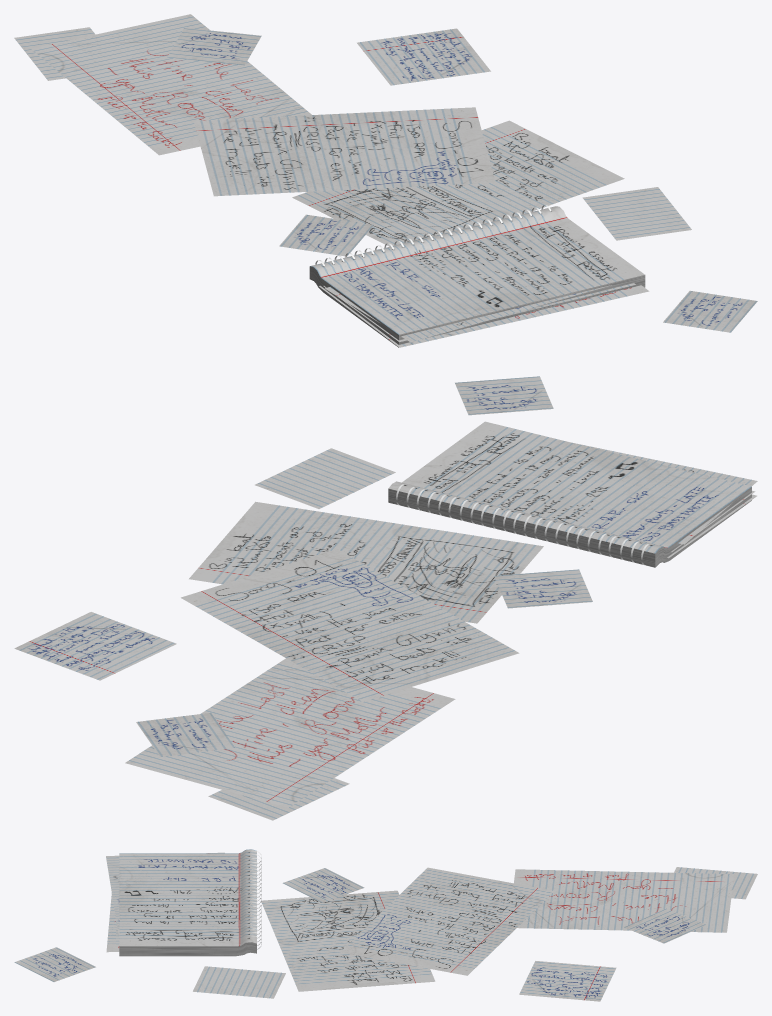
File: SM_DeskPaper.fbx
3 views of the same model, one above another, from view 1: azimuth 30°, elevation 25°; view 2: azimuth 150°, elevation 25°; view 3: azimuth 270°, elevation 25° (orthographic). The views are drawn at different scales.
Parts seen in each view (by area): view 1: SM_DeskPaper_LOD0; view 2: SM_DeskPaper_LOD0; view 3: SM_DeskPaper_LOD0.
Boxes of the visible parts, left/top/right/bottom form: SM_DeskPaper_LOD0: left=14, top=14, right=757, bottom=347; SM_DeskPaper_LOD0: left=14, top=376, right=757, bottom=820; SM_DeskPaper_LOD0: left=14, top=849, right=757, bottom=1001.
Bounding box in the file's own units: 49.11 × 109 × 2.58.
